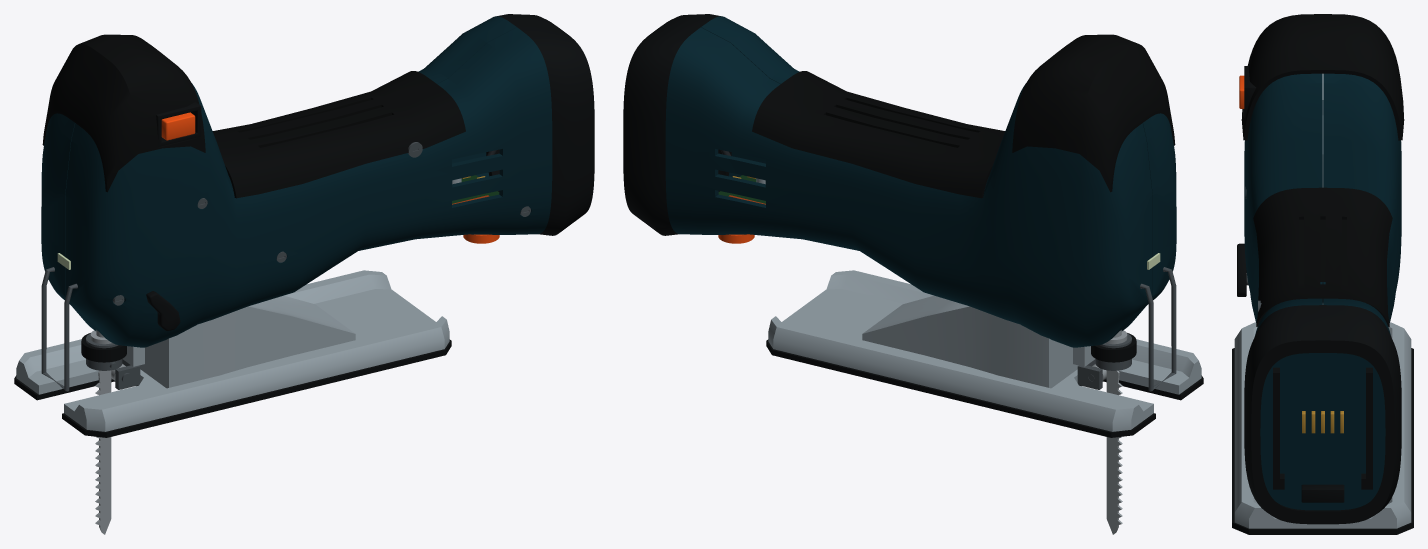
3 renders of one model, left to right at view 1: azimuth 30°, elevation 25°; view 2: azimuth 150°, elevation 25°; view 3: azimuth 270°, elevation 25°, orthographic. The views are drawn at different scales.
Parts seen in each view (by area): view 1: part_053_Left_enclosure_half, part_075_Cast_aluminum_footplate, part_002_Upper_barrel_grip_pad, part_071_Domed_front_grip_cap, part_074_Cast_bevel_saddle, part_031_Rear_connector_collar, part_025_Right_enclosure_half, part_032_Protective_sole, part_054_Installed_toothed_blade, part_067_Formed_blade_guard, part_007_Thumb_slider_surround, part_008_Thumb_power_slider (+2 smaller); view 2: part_025_Right_enclosure_half, part_075_Cast_aluminum_footplate, part_002_Upper_barrel_grip_pad, part_071_Domed_front_grip_cap, part_074_Cast_bevel_saddle, part_031_Rear_connector_collar, part_053_Left_enclosure_half, part_032_Protective_sole, part_054_Installed_toothed_blade, part_067_Formed_blade_guard, part_073_Clamp_release_collar; view 3: part_027_Recessed_terminal_carrier, part_002_Upper_barrel_grip_pad, part_031_Rear_connector_collar, part_025_Right_enclosure_half, part_053_Left_enclosure_half, part_071_Domed_front_grip_cap, part_075_Cast_aluminum_footplate, part_032_Protective_sole, part_037_Positive_side_battery_rail, part_041_Negative_side_battery_rail, part_092_Battery_latch_ledge, part_038_Orbital_selector_lever (+1 smaller).
Boxes of the visible parts, box(x1,y1,x2,y2) form: part_053_Left_enclosure_half: box(65, 27, 552, 347); part_075_Cast_aluminum_footplate: box(16, 270, 449, 431); part_002_Upper_barrel_grip_pad: box(212, 71, 465, 198); part_071_Domed_front_grip_cap: box(42, 34, 205, 192); part_074_Cast_bevel_saddle: box(139, 295, 355, 388); part_031_Rear_connector_collar: box(486, 14, 594, 235); part_025_Right_enclosure_half: box(41, 16, 516, 330); part_032_Protective_sole: box(14, 339, 451, 437); part_054_Installed_toothed_blade: box(95, 370, 111, 534); part_067_Formed_blade_guard: box(41, 267, 77, 391); part_007_Thumb_slider_surround: box(156, 101, 201, 146); part_008_Thumb_power_slider: box(161, 112, 195, 140); part_025_Right_enclosure_half: box(665, 27, 1152, 347); part_075_Cast_aluminum_footplate: box(768, 270, 1201, 431); part_002_Upper_barrel_grip_pad: box(752, 71, 1005, 198); part_071_Domed_front_grip_cap: box(1012, 34, 1175, 192); part_074_Cast_bevel_saddle: box(862, 295, 1078, 388); part_031_Rear_connector_collar: box(623, 14, 731, 235); part_053_Left_enclosure_half: box(701, 16, 1176, 330); part_032_Protective_sole: box(766, 339, 1203, 437); part_054_Installed_toothed_blade: box(1106, 370, 1122, 534); part_067_Formed_blade_guard: box(1140, 267, 1176, 391); part_073_Clamp_release_collar: box(1091, 333, 1136, 362); part_027_Recessed_terminal_carrier: box(1260, 353, 1385, 510); part_002_Upper_barrel_grip_pad: box(1253, 187, 1392, 326); part_031_Rear_connector_collar: box(1244, 305, 1401, 524); part_025_Right_enclosure_half: box(1323, 73, 1401, 335); part_053_Left_enclosure_half: box(1244, 73, 1322, 335); part_071_Domed_front_grip_cap: box(1241, 14, 1404, 140); part_075_Cast_aluminum_footplate: box(1234, 322, 1411, 528); part_032_Protective_sole: box(1232, 348, 1413, 534); part_037_Positive_side_battery_rail: box(1361, 367, 1372, 489); part_041_Negative_side_battery_rail: box(1273, 367, 1284, 489); part_092_Battery_latch_ledge: box(1301, 484, 1344, 502); part_038_Orbital_selector_lever: box(1237, 243, 1246, 296).
Bounding box in the file's own units: 0.2228 × 0.2019 × 0.0655.
